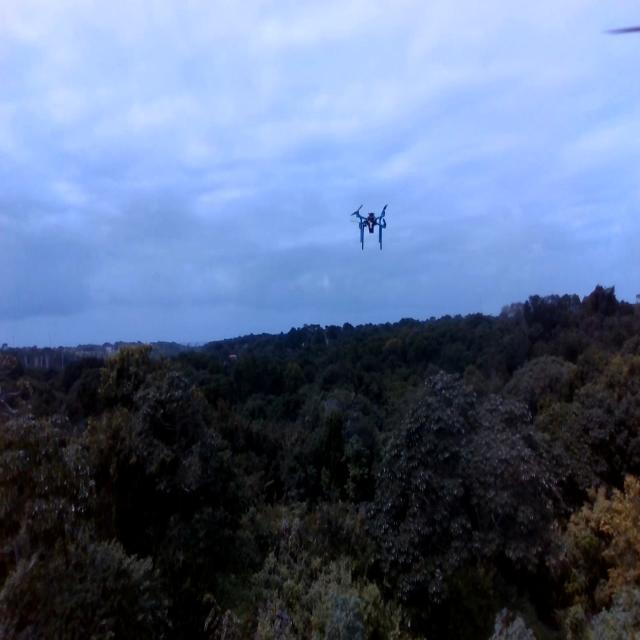-uav-: (344, 193, 398, 271)
